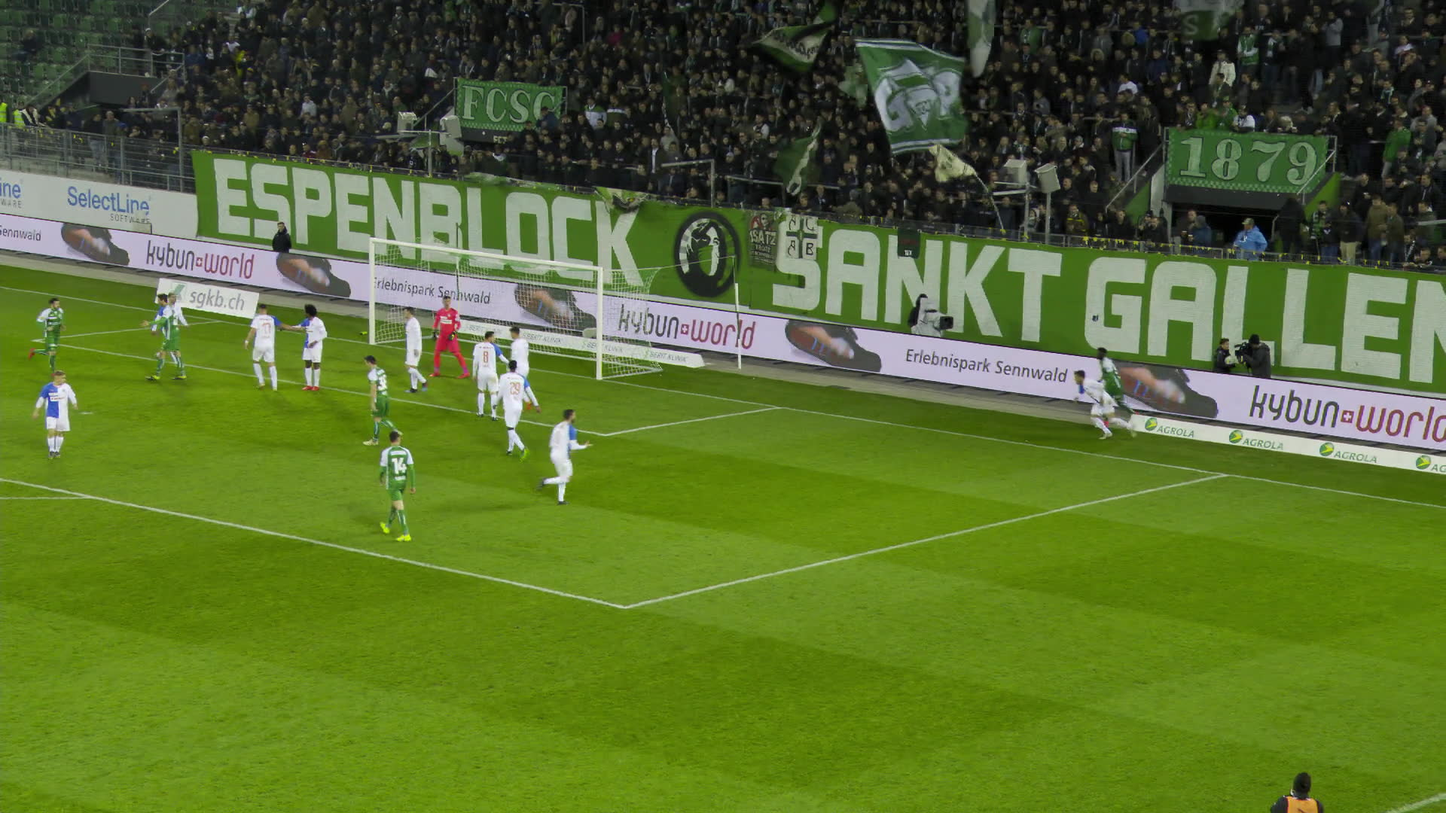player: (243, 303, 307, 391), (538, 408, 595, 506), (493, 359, 541, 462), (1072, 369, 1136, 440), (377, 431, 416, 543), (33, 370, 79, 461), (279, 303, 326, 391), (154, 294, 200, 378), (472, 331, 512, 420), (429, 295, 470, 379), (351, 352, 390, 437), (29, 297, 66, 379), (150, 293, 188, 367), (1051, 340, 1085, 415), (401, 306, 428, 393), (508, 326, 531, 412)
